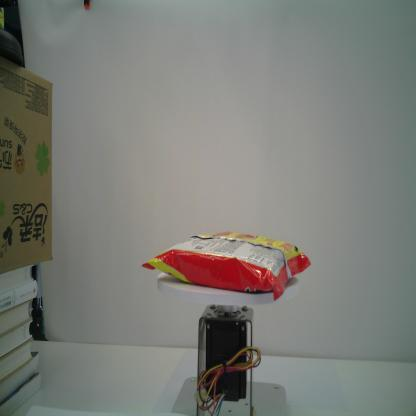Instant Noodles: (140, 228, 312, 301)
